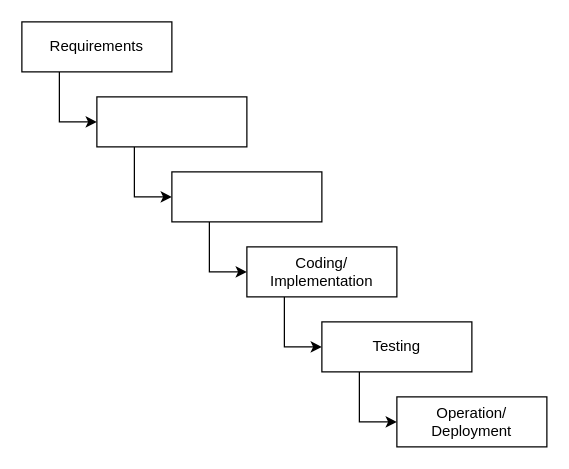
Some shapes in this 569 by 469 pixel diagram are drawn without their labels. The shapes that lost their labels are listed below. From the top down, each one's centre as x and y in pixels, then its label:
At [171,121]: "Analysis".
At [246,196]: "Design".
